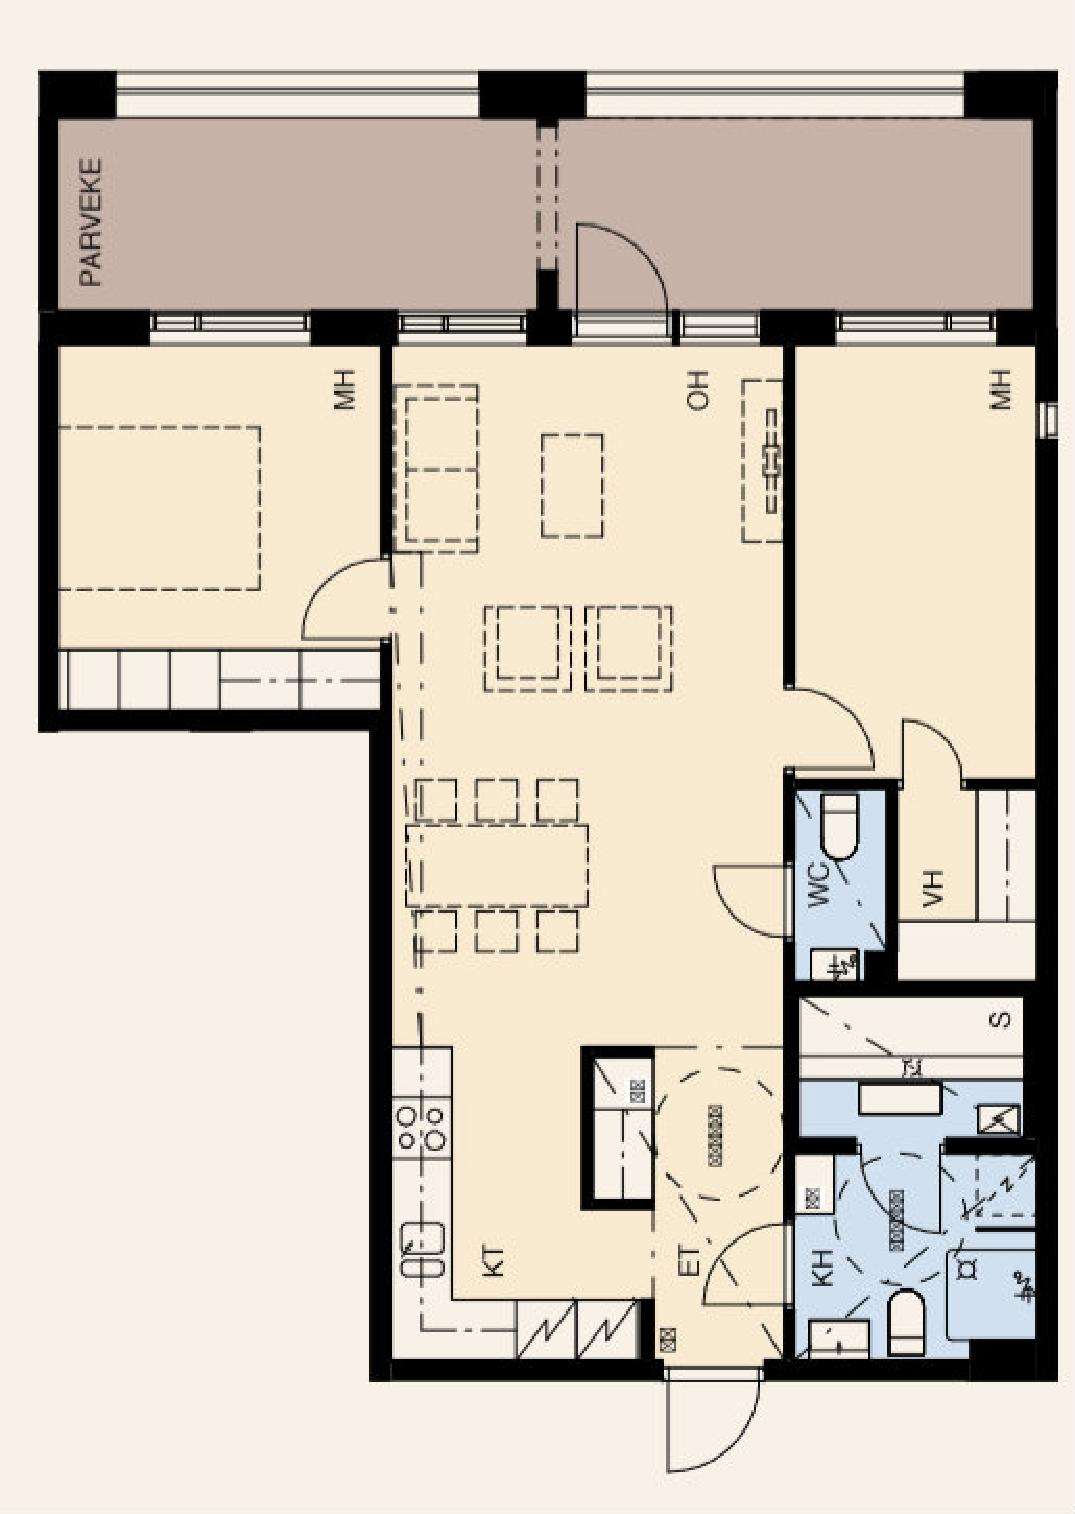door: (654, 1354, 776, 1484), (565, 224, 676, 342), (696, 1216, 804, 1324), (297, 547, 405, 650), (854, 1136, 963, 1237), (705, 852, 802, 952), (783, 690, 873, 786), (888, 715, 978, 808)
window: (141, 310, 309, 353), (842, 303, 1004, 348), (401, 310, 531, 357), (679, 310, 757, 353), (1034, 397, 1062, 454)
zone: (397, 352, 791, 1361), (55, 110, 1041, 310), (55, 344, 375, 698), (788, 347, 1034, 781), (796, 1155, 1034, 1361), (792, 994, 1018, 1134)
